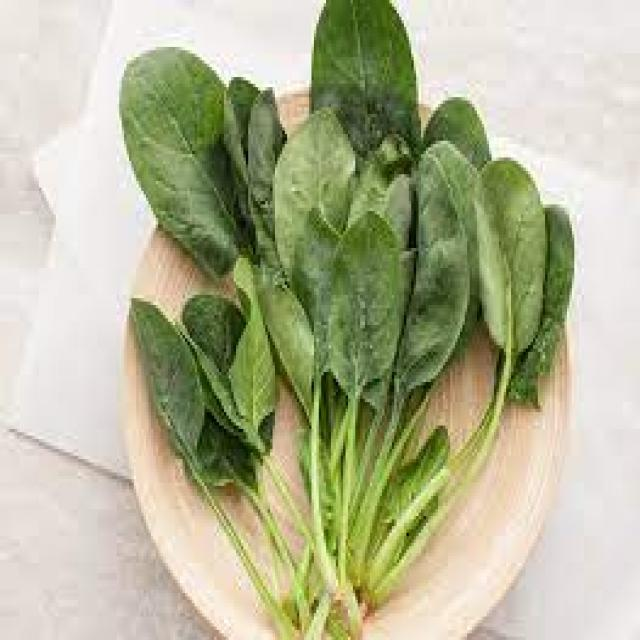spinach: (119, 0, 572, 638)
